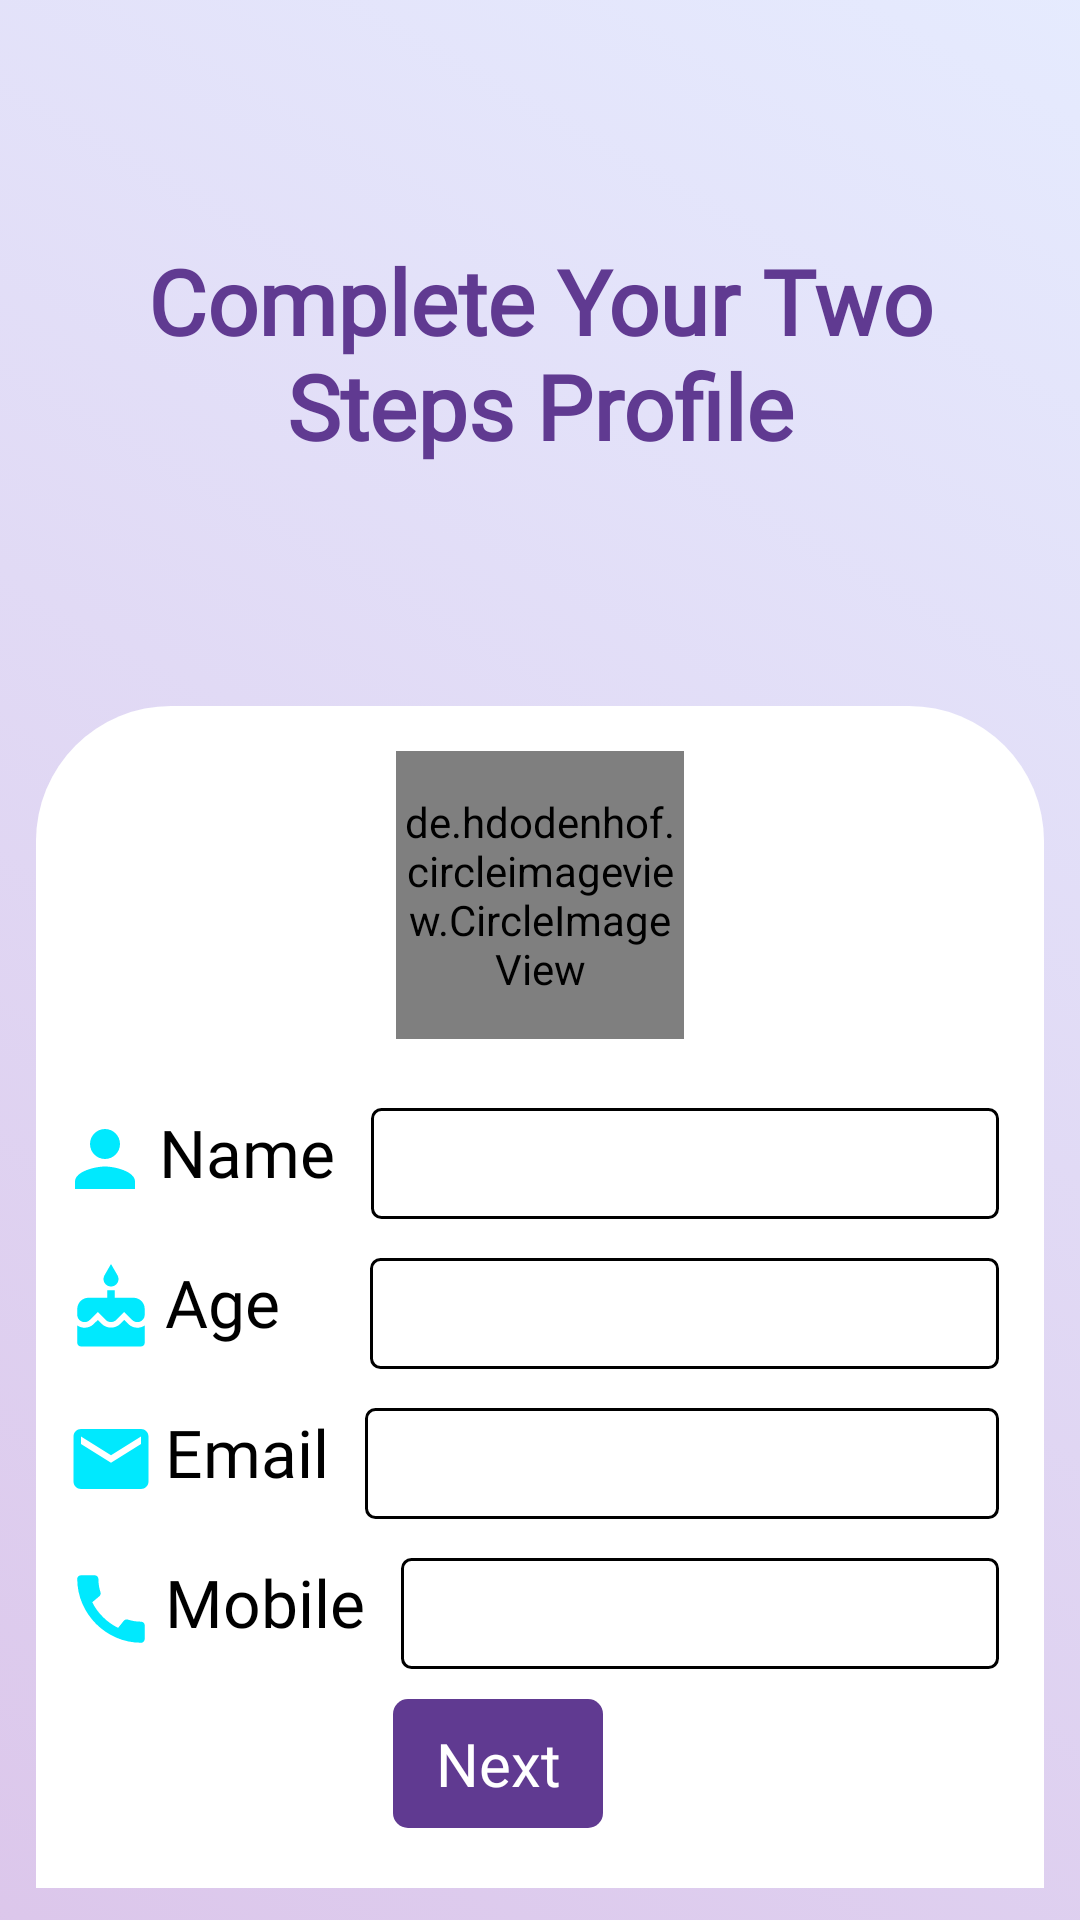

Icon bounding boxes for this 1080 x 1920 phone screenshot, format region(x1, y1, x2, y2):
cake: region(77, 1264, 145, 1347)
call: region(77, 1575, 145, 1643)
person: region(75, 1129, 135, 1189)
